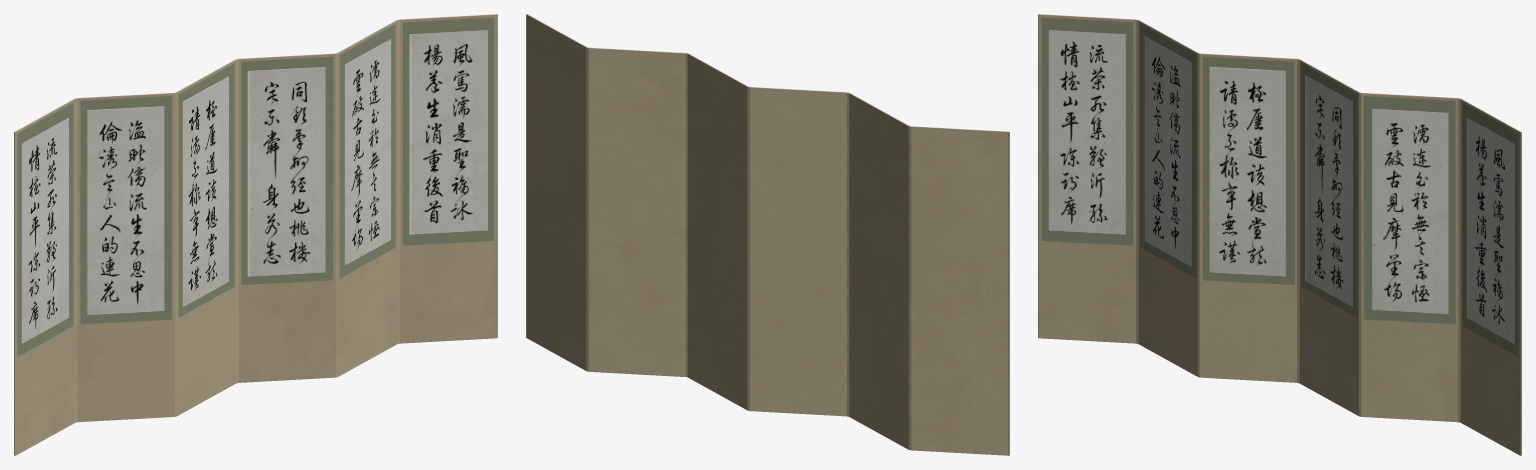
File: folding_screen.fbx
3 views of the same model, side by side, from view 1: azimuth 30°, elevation 25°; view 2: azimuth 150°, elevation 25°; view 3: azimuth 330°, elevation 25° (orthographic).
Visible parts, largest first — view 1: folding_screen.003; view 2: folding_screen.003; view 3: folding_screen.003.
Boxes of the visible parts, x1=… form: folding_screen.003: x1=14, y1=14, x2=497, y2=455; folding_screen.003: x1=526, y1=14, x2=1009, y2=455; folding_screen.003: x1=1038, y1=14, x2=1521, y2=455.
Size of the model in its own units: 250 by 160 by 17.5.
